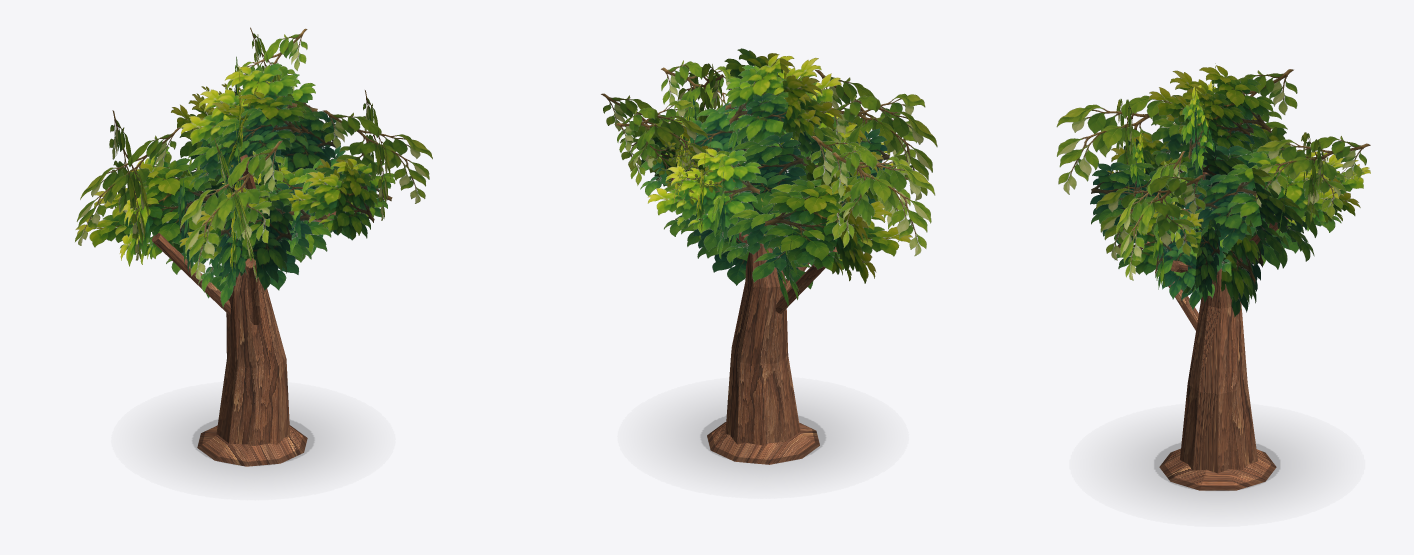
Rendered from tree-broadleaf-round.glb.
3 views of the same model, side by side, from view 1: azimuth 30°, elevation 25°; view 2: azimuth 150°, elevation 25°; view 3: azimuth 270°, elevation 25° (orthographic). The views are drawn at different scales.
Visible parts, largest first — view 1: trunk, leafcard.023, leafcard.003, ContactShadow, leafcard.031, leafcard.012, leafcard.035, leafcard.005, leafcard.010, flare, leafcard.009, leafcard.020 (+16 smaller); view 2: trunk, leafcard.004, leafcard.015, leafcard.005, leafcard.013, ContactShadow, leafcard.036, leafcard.023, leafcard.001, leafcard.006, leafcard.029, flare (+17 smaller); view 3: trunk, leafcard.024, leafcard.030, ContactShadow, leafcard.011, leafcard.036, leafcard.027, leafcard.025, leafcard.026, flare, leafcard.012, leafcard.020 (+18 smaller).
Part boxes in pixels (x1=…): trunk: x1=216, y1=267, x2=289, y2=445; leafcard.023: x1=180, y1=140, x2=284, y2=280; leafcard.003: x1=75, y1=158, x2=215, y2=258; ContactShadow: x1=177, y1=412, x2=329, y2=472; leafcard.031: x1=187, y1=105, x2=292, y2=195; leafcard.012: x1=322, y1=110, x2=432, y2=203; leafcard.035: x1=180, y1=63, x2=297, y2=147; leafcard.005: x1=75, y1=127, x2=180, y2=245; leafcard.010: x1=287, y1=158, x2=395, y2=231; flare: x1=197, y1=425, x2=307, y2=466; leafcard.009: x1=316, y1=158, x2=378, y2=239; leafcard.020: x1=215, y1=187, x2=293, y2=290; trunk: x1=725, y1=243, x2=800, y2=445; leafcard.004: x1=764, y1=179, x2=912, y2=271; leafcard.015: x1=647, y1=148, x2=761, y2=233; leafcard.005: x1=810, y1=136, x2=935, y2=256; leafcard.013: x1=664, y1=132, x2=806, y2=251; ContactShadow: x1=685, y1=408, x2=841, y2=469; leafcard.036: x1=725, y1=54, x2=841, y2=143; leafcard.023: x1=815, y1=70, x2=937, y2=200; leafcard.001: x1=722, y1=176, x2=860, y2=282; leafcard.006: x1=831, y1=146, x2=912, y2=247; leafcard.029: x1=601, y1=93, x2=708, y2=173; flare: x1=707, y1=422, x2=819, y2=464; trunk: x1=1180, y1=268, x2=1257, y2=473; leafcard.024: x1=1056, y1=95, x2=1175, y2=194; leafcard.030: x1=1253, y1=136, x2=1370, y2=218; ContactShadow: x1=1138, y1=435, x2=1295, y2=497; leafcard.011: x1=1095, y1=173, x2=1206, y2=260; leafcard.036: x1=1148, y1=65, x2=1274, y2=148; leafcard.027: x1=1229, y1=152, x2=1343, y2=232; leafcard.025: x1=1201, y1=146, x2=1305, y2=254; leafcard.026: x1=1196, y1=165, x2=1284, y2=251; flare: x1=1159, y1=448, x2=1276, y2=490; leafcard.012: x1=1116, y1=151, x2=1187, y2=280; leafcard.020: x1=1090, y1=162, x2=1187, y2=244.
Bounding box in the file's own units: 3.72 × 4.31 × 3.4.
6 materials, 6 textured.
